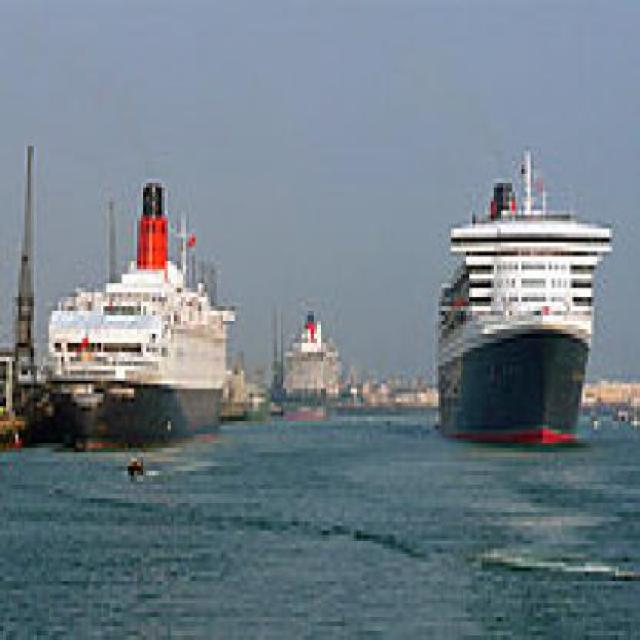cruise: (428, 129, 617, 458), (37, 170, 245, 450)
